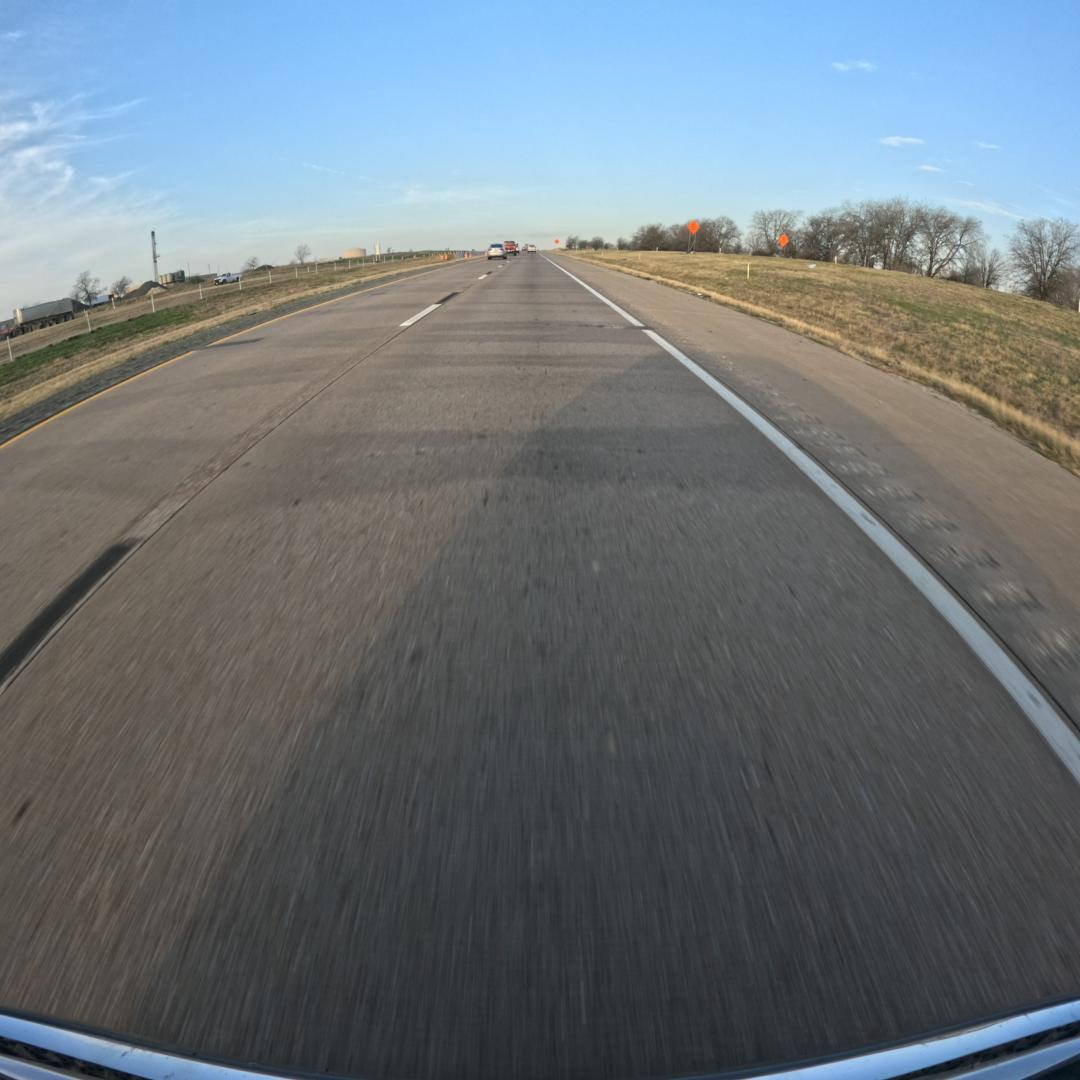lane0: (0, 258, 1080, 1076)
lane1: (0, 263, 497, 693)
